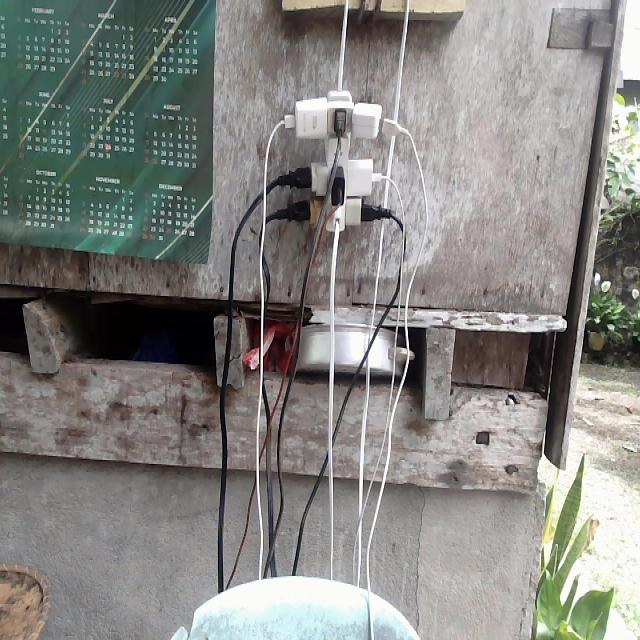-: (256, 88, 414, 252)
